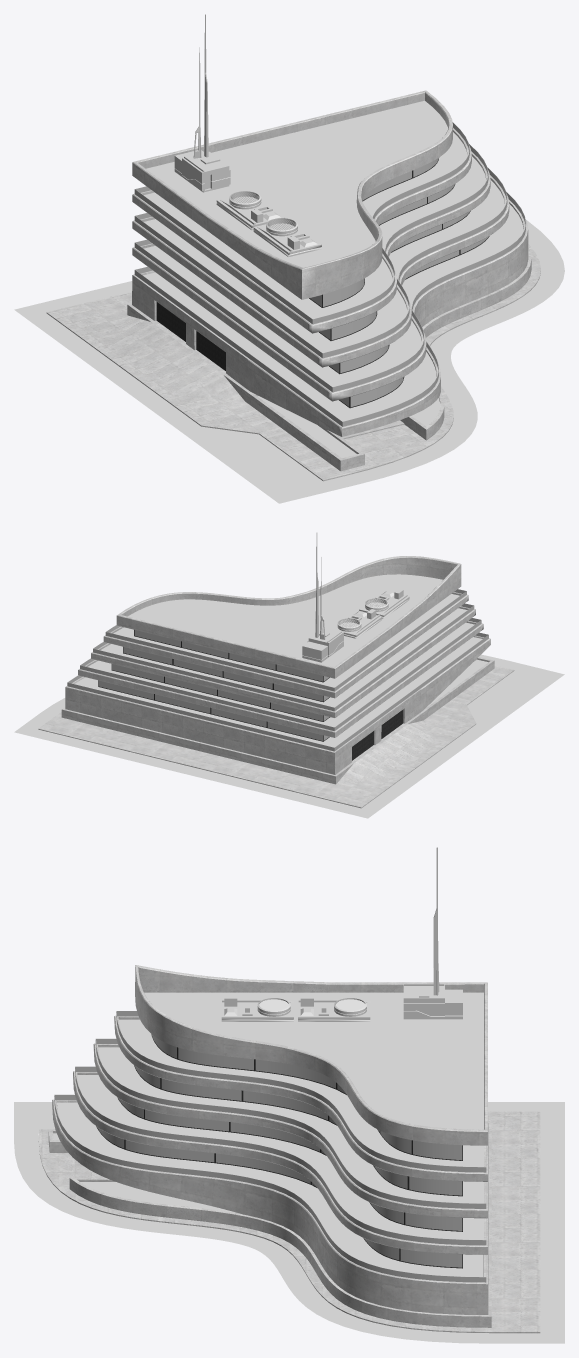
Rendered from KB3D_UTP_BldgSM_B.fbx.
The picture shows the model from 3 angles, top to bottom: view 1: azimuth 30°, elevation 25°; view 2: azimuth 150°, elevation 25°; view 3: azimuth 270°, elevation 25°; orthographic projection. The views are drawn at different scales.
Parts seen in each view (by area): view 1: KB3D_UTP_BldgSM_B_Main, KB3D_UTP_BldgSM_B_Base, KB3D_UTP_BldgSM_B_RooftopProps; view 2: KB3D_UTP_BldgSM_B_Main, KB3D_UTP_BldgSM_B_Base, KB3D_UTP_BldgSM_B_RooftopProps; view 3: KB3D_UTP_BldgSM_B_Main, KB3D_UTP_BldgSM_B_Base, KB3D_UTP_BldgSM_B_RooftopProps.
Part boxes in pixels (x1,y1,x2,y2): KB3D_UTP_BldgSM_B_Main: (46, 90, 540, 481); KB3D_UTP_BldgSM_B_Base: (14, 220, 564, 503); KB3D_UTP_BldgSM_B_RooftopProps: (174, 14, 321, 257); KB3D_UTP_BldgSM_B_Main: (38, 556, 514, 808); KB3D_UTP_BldgSM_B_Base: (14, 654, 564, 818); KB3D_UTP_BldgSM_B_RooftopProps: (302, 532, 409, 662); KB3D_UTP_BldgSM_B_Main: (38, 965, 540, 1333); KB3D_UTP_BldgSM_B_Base: (14, 1102, 564, 1343); KB3D_UTP_BldgSM_B_RooftopProps: (221, 847, 462, 1021).
Size of the model in its own units: 6912 by 4277 by 6664.
